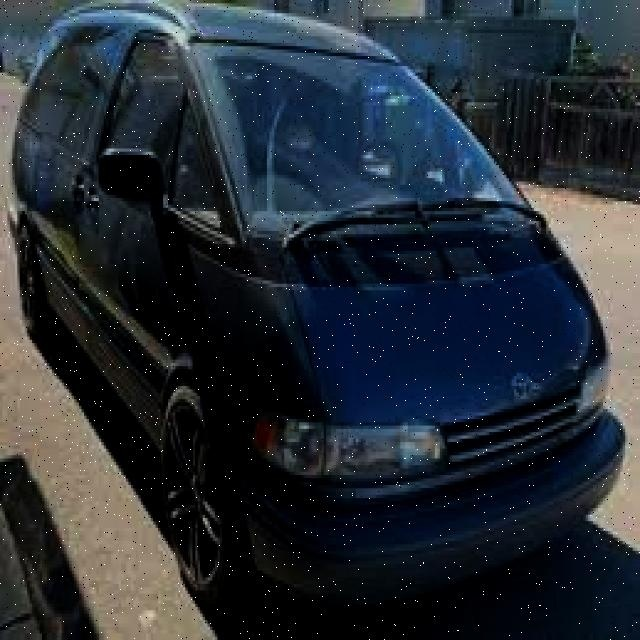Van: (7, 0, 623, 617)
